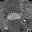people: (7, 12, 21, 20)
